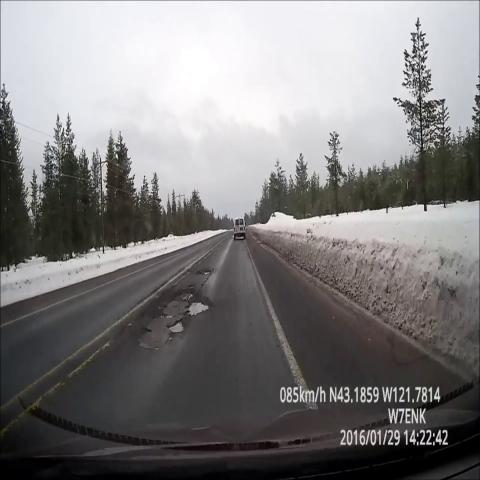pothole: (133, 286, 215, 364), (191, 258, 217, 286)
